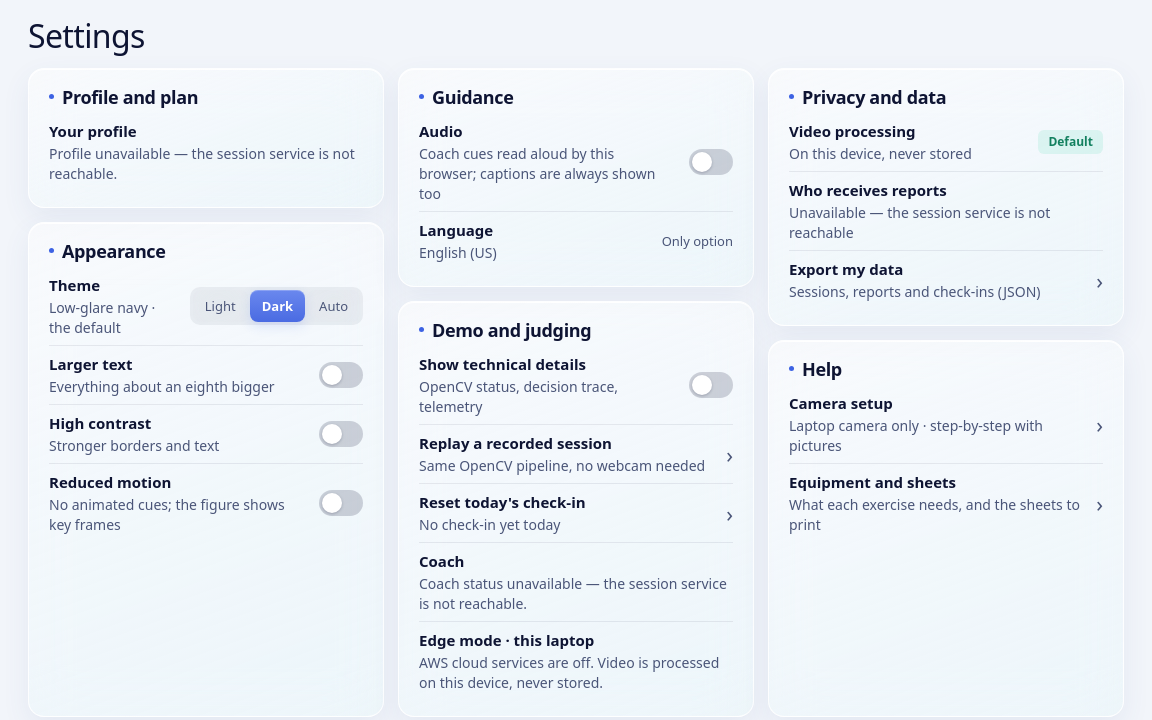
Test: a clip of an exercise hidden on 28 Sep is never offered for replay
Click the button "Replay a recorded session" at (576, 454), box x1=419 y1=424 x2=733 y2=482
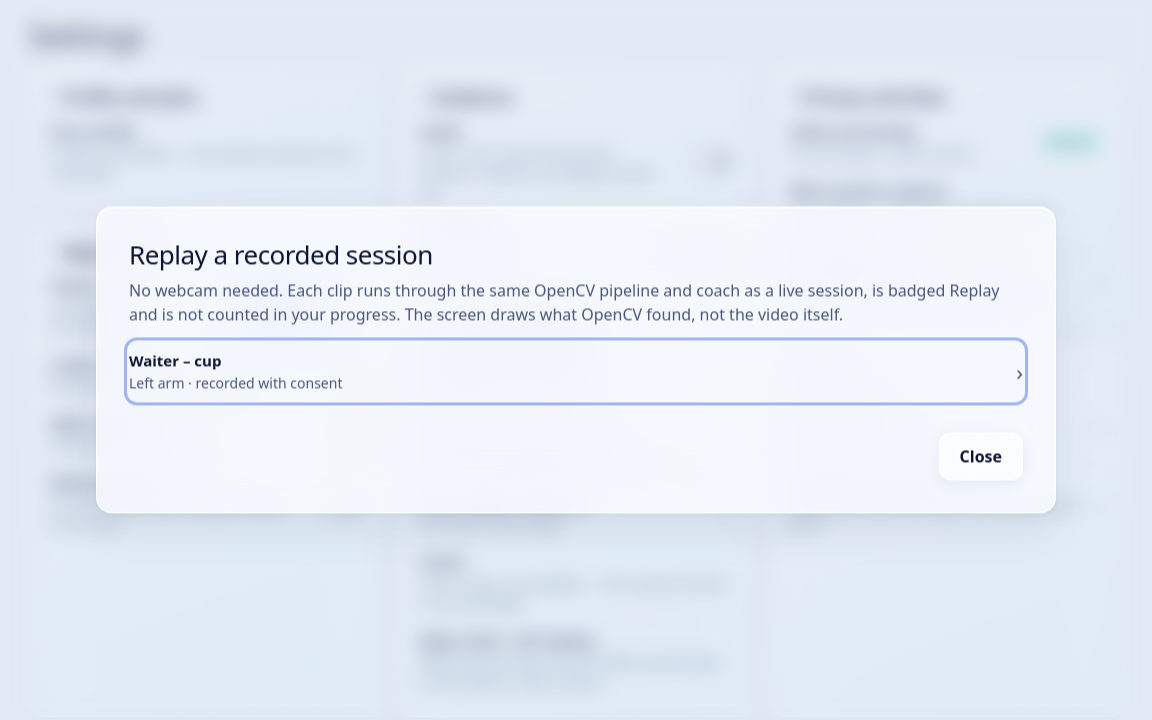
Now the text "Waiter – cup" is shown, box x1=129 y1=351 x2=221 y2=371
Now the number of buttons named "Replay " is 1, box x1=129 y1=343 x2=1023 y2=401
